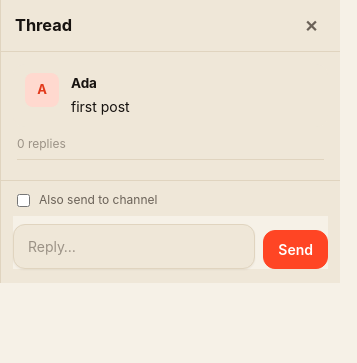
it: ThreadPanel › shows the thread root and lets you post a reply
This screenshot has width=357, height=363.
Expected: the text "first post" is shown, [71, 98, 130, 115]
In the text box: coordinates (134, 246) [13, 224, 255, 269], type "on it"
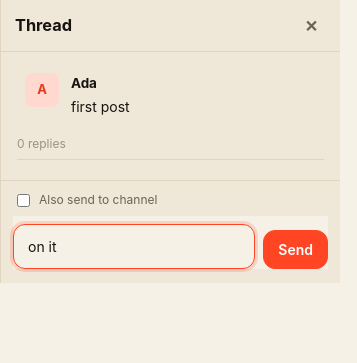
Click the button "Send": coordinates (296, 249) [263, 230, 328, 269]
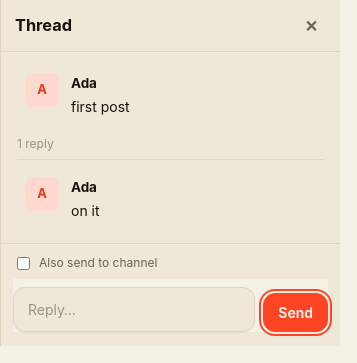
Expected: the text "on it" is shown, [71, 202, 100, 219]
